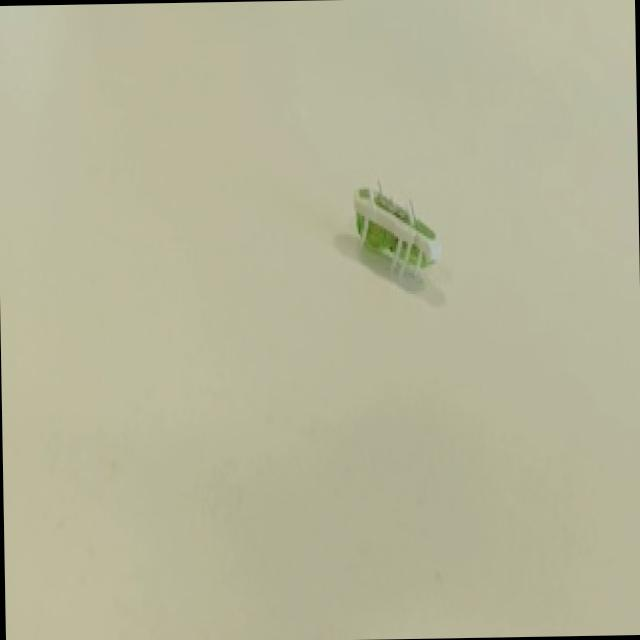4_NanoBug_Blanco: (296, 168, 479, 314)
